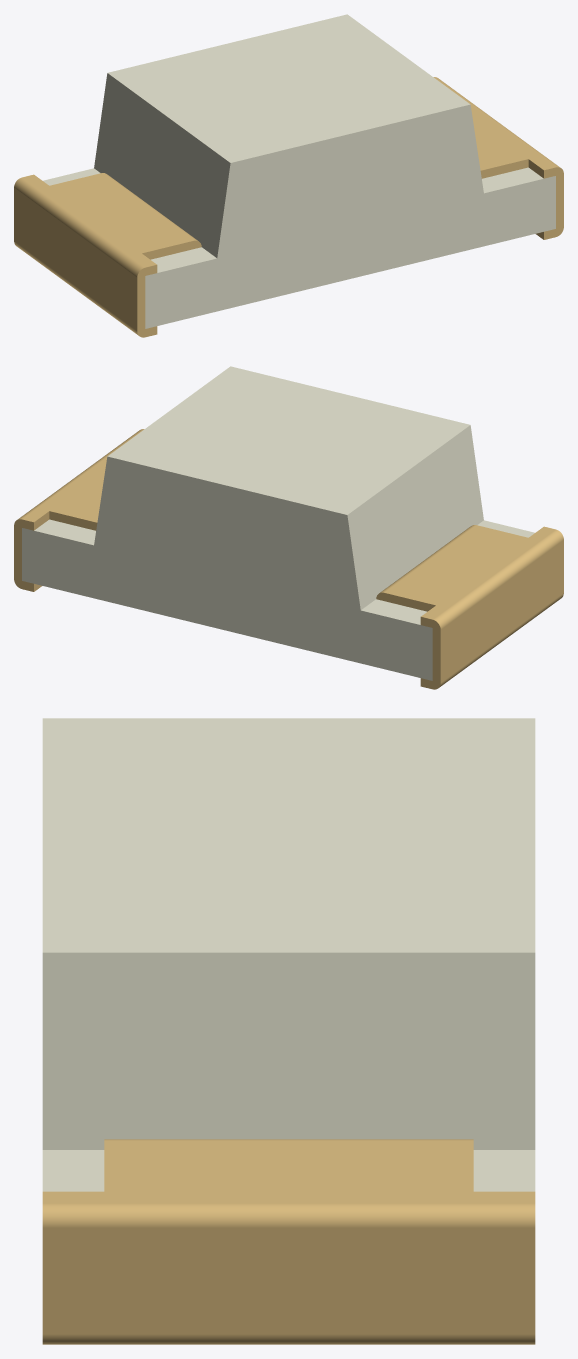
Rendered from LED_1206_3216Metric.glb.
3 renders of one model, top to bottom at view 1: azimuth 30°, elevation 25°; view 2: azimuth 150°, elevation 25°; view 3: azimuth 270°, elevation 25°, orthographic. The views are drawn at different scales.
Visible parts, largest first — view 1: =>[0:1:1:3]; view 2: =>[0:1:1:3]; view 3: =>[0:1:1:3].
Boxes of the visible parts, box(x1,y1,x2,y2) form: =>[0:1:1:3]: box(14, 14, 563, 337); =>[0:1:1:3]: box(14, 366, 563, 689); =>[0:1:1:3]: box(42, 718, 535, 1344).
Size of the model in its own units: 0.0032 by 0.0011 by 0.0016.
